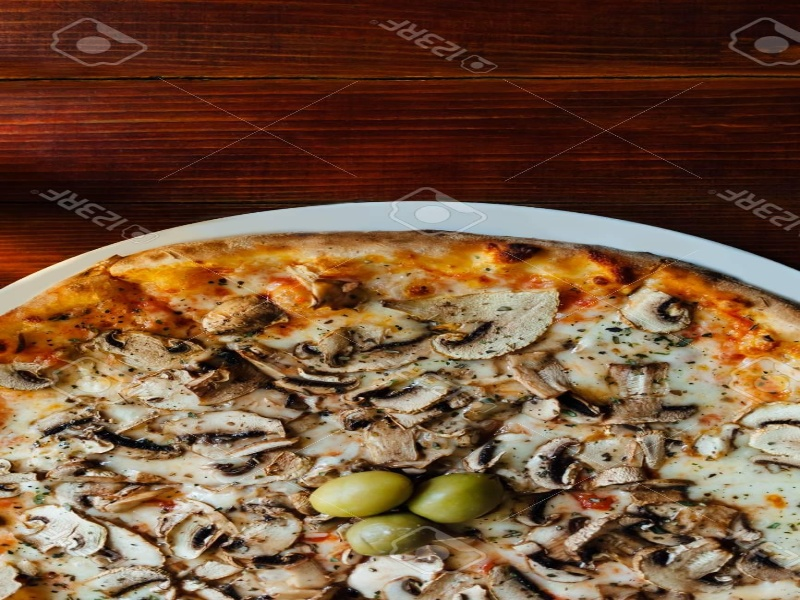champignon: (430, 282, 567, 368), (20, 504, 109, 562)
